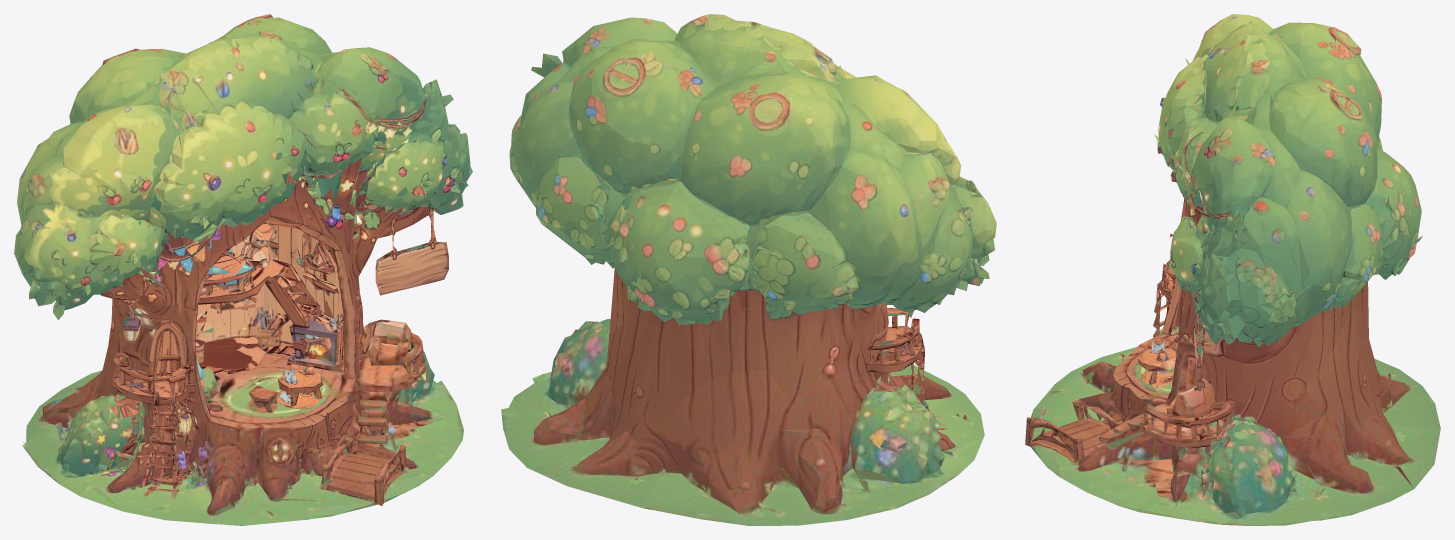
The model's file is keepy_treehouse_prop.glb.
The picture shows the model from 3 angles, left to right: view 1: azimuth 30°, elevation 25°; view 2: azimuth 150°, elevation 25°; view 3: azimuth 270°, elevation 25°; orthographic projection. The views are drawn at different scales.
Visible parts, largest first — view 1: output_unwrapped; view 2: output_unwrapped; view 3: output_unwrapped.
Part boxes in pixels (x1=…): output_unwrapped: x1=14, y1=14, x2=472, y2=525; output_unwrapped: x1=501, y1=14, x2=996, y2=525; output_unwrapped: x1=1025, y1=14, x2=1440, y2=525.
Bounding box in the file's own units: 1.89 × 1.59 × 1.55.
1 material, 1 textured.
